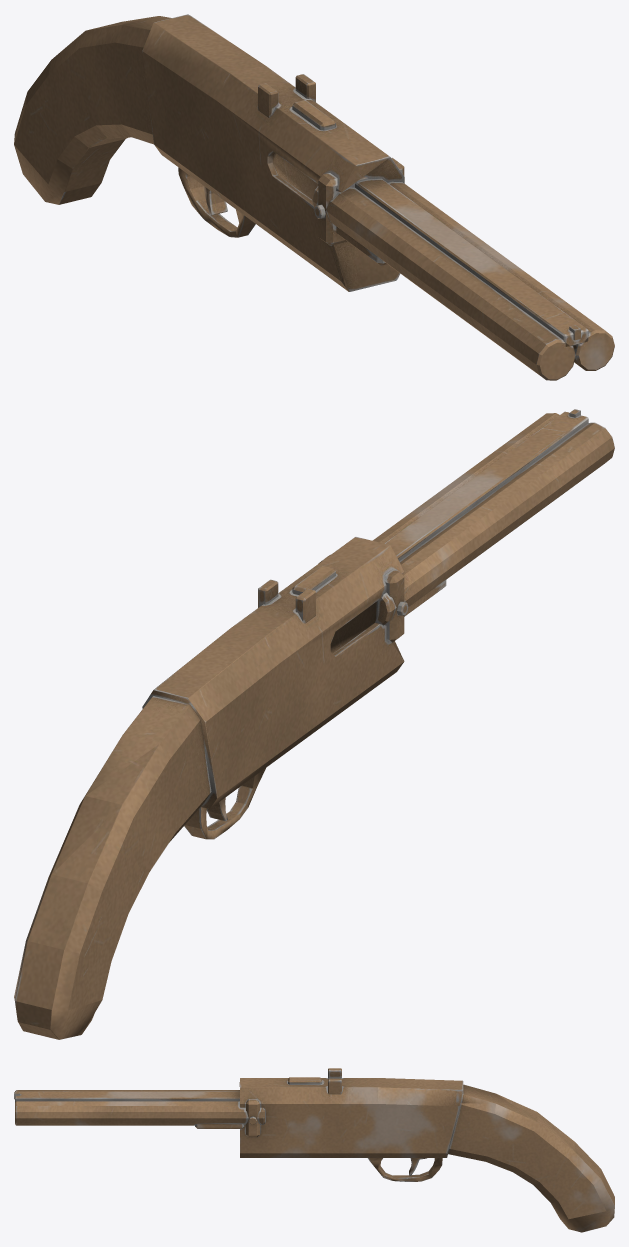
The model's file is sawed_off.glb.
The picture shows the model from 3 angles, top to bottom: view 1: azimuth 30°, elevation 25°; view 2: azimuth 150°, elevation 25°; view 3: azimuth 270°, elevation 25°; orthographic projection. The views are drawn at different scales.
Visible parts, largest first — view 1: sawed_off; view 2: sawed_off; view 3: sawed_off.
Part boxes in pixels (x1,y1,x2,y2): sawed_off: [14, 14, 614, 380]; sawed_off: [14, 409, 614, 1039]; sawed_off: [14, 1068, 614, 1232].
Size of the model in its own units: 0.0468 by 0.1414 by 0.502.
Materials: 1 (1 with a texture image).
